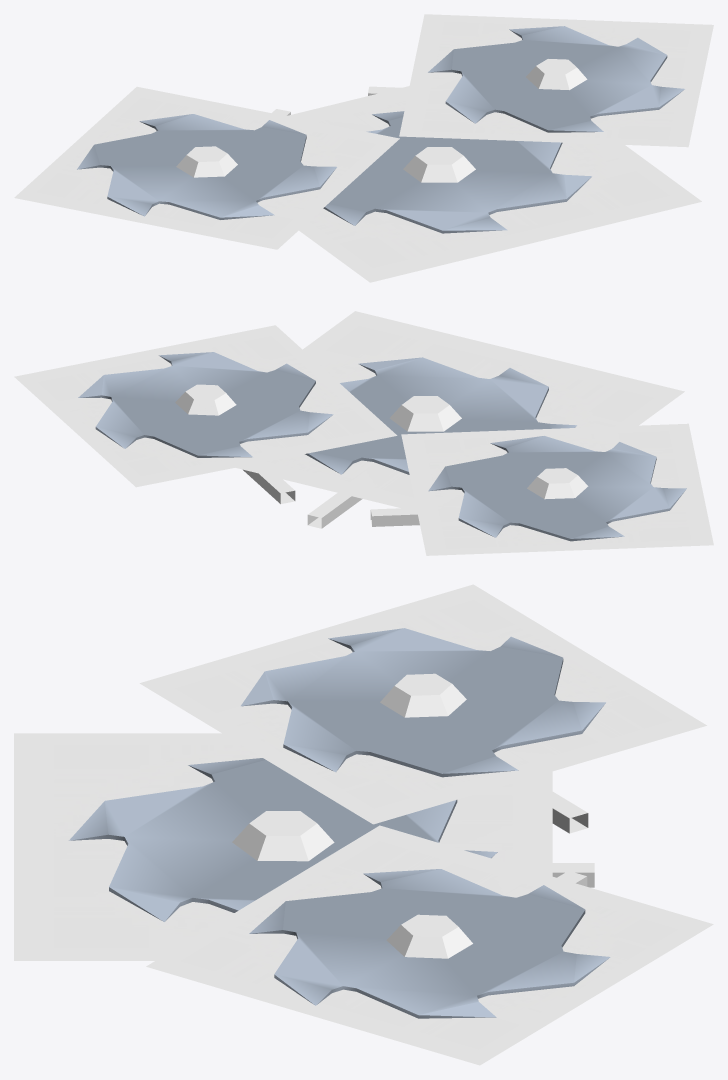
The model's file is saw 6.FBX.
3 views of the same model, one above another, from view 1: azimuth 30°, elevation 25°; view 2: azimuth 150°, elevation 25°; view 3: azimuth 270°, elevation 25° (orthographic). The views are drawn at different scales.
Parts seen in each view (by area): view 1: Saw_Wind_FX, Saw_Wind_FX_1, Saw_Wind_FX_2, Saw_6_3, Saw_6_5, Saw_6_1, Saw_6_cell, Saw_6_cell_2, Saw_6_cell_1; view 2: Saw_Wind_FX, Saw_Wind_FX_2, Saw_Wind_FX_1, Saw_6_5, Saw_6_3, Saw_6_1, Saw_6_cell, Saw_6_cell_2, Saw_6_cell_1, Mounting_Saw, Mounting_Saw_2, Mounting_Saw_1; view 3: Saw_Wind_FX, Saw_Wind_FX_2, Saw_Wind_FX_1, Saw_6_3, Saw_6_5, Saw_6_1, Saw_6_cell, Saw_6_cell_2, Saw_6_cell_1, Mounting_Saw_2.
Part boxes in pixels (box(x1,y1,x2,y2)): Saw_Wind_FX: box(287, 86, 701, 282); Saw_Wind_FX_1: box(399, 14, 713, 147); Saw_Wind_FX_2: box(14, 86, 399, 249); Saw_6_3: box(428, 26, 684, 132); Saw_6_5: box(77, 114, 336, 219); Saw_6_1: box(323, 111, 591, 233); Saw_6_cell: box(403, 147, 475, 182); Saw_6_cell_2: box(176, 146, 237, 177); Saw_6_cell_1: box(526, 59, 587, 90); Saw_Wind_FX: box(235, 311, 684, 511); Saw_Wind_FX_2: box(401, 423, 713, 555); Saw_Wind_FX_1: box(14, 325, 397, 487); Saw_6_5: box(428, 436, 686, 541); Saw_6_3: box(78, 352, 333, 457); Saw_6_1: box(305, 357, 576, 474); Saw_6_cell: box(389, 396, 461, 431); Saw_6_cell_2: box(527, 468, 588, 499); Saw_6_cell_1: box(175, 384, 236, 415); Mounting_Saw: box(307, 493, 362, 528); Mounting_Saw_2: box(370, 508, 419, 526); Mounting_Saw_1: box(243, 469, 295, 504); Saw_Wind_FX: box(14, 733, 552, 960); Saw_Wind_FX_2: box(139, 584, 706, 824); Saw_Wind_FX_1: box(146, 825, 713, 1065); Saw_6_3: box(249, 869, 610, 1018); Saw_6_5: box(241, 628, 605, 777); Saw_6_1: box(69, 758, 497, 921); Saw_6_cell: box(232, 811, 334, 861); Saw_6_cell_2: box(380, 673, 466, 717); Saw_6_cell_1: box(386, 914, 472, 958); Mounting_Saw_2: box(552, 792, 588, 833).
Size of the model in its own units: 611 by 42.93 by 376.
